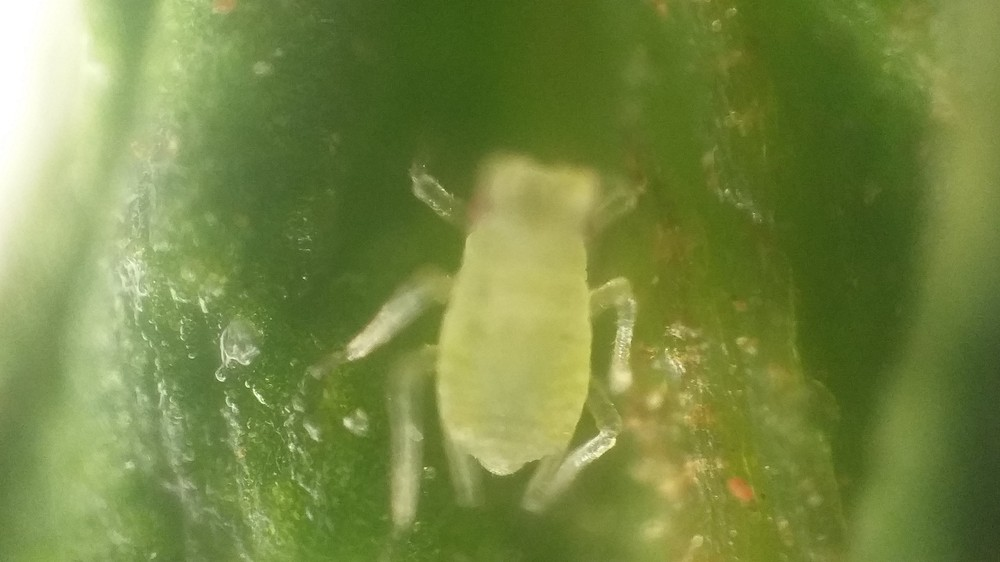Pulgon: (312, 102, 699, 547)
